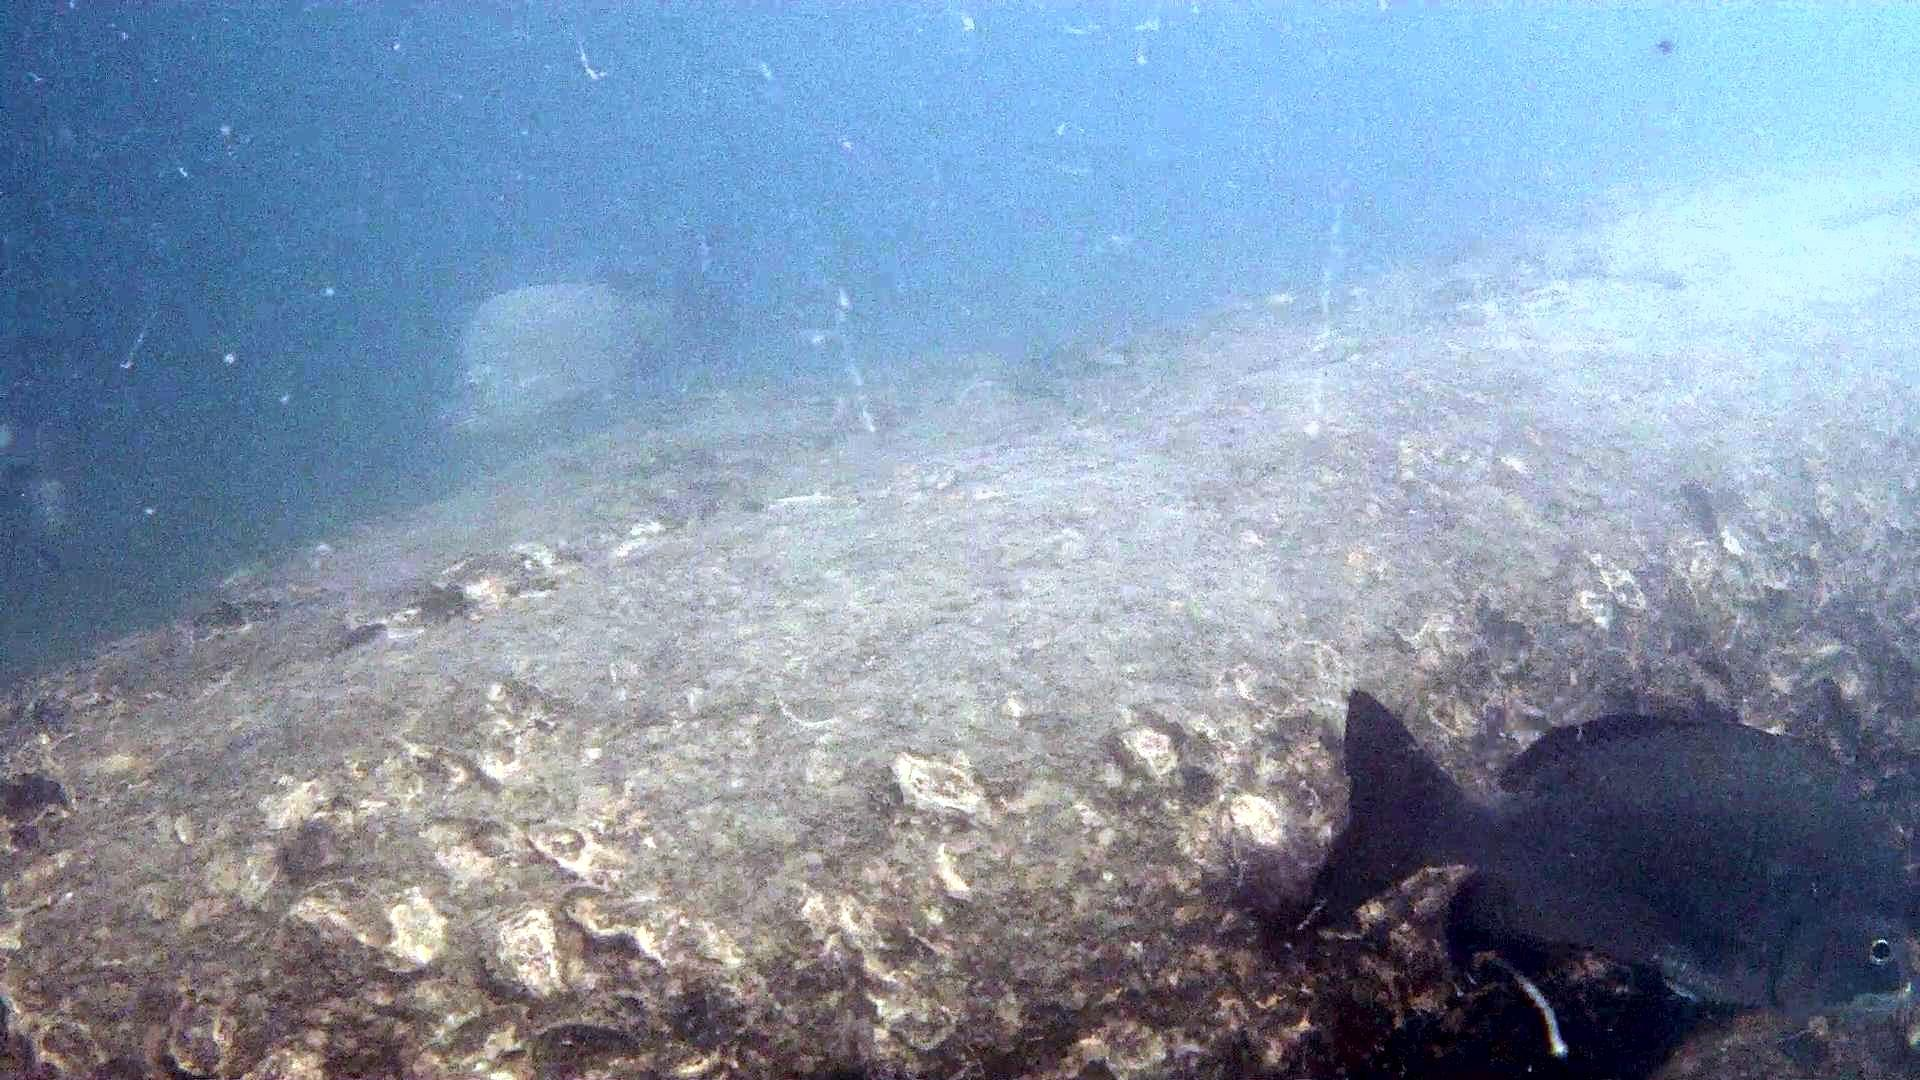acanthopagrus palmaris: (1280, 674, 1920, 1062)
